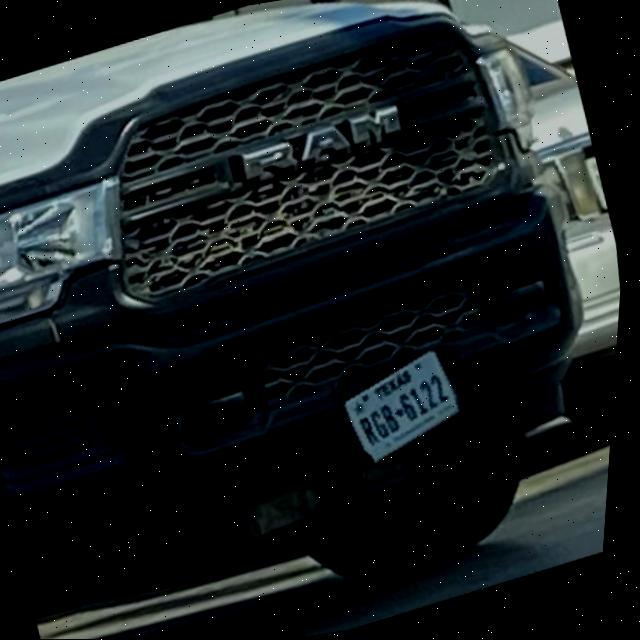LicensePlate: (346, 348, 471, 469)
